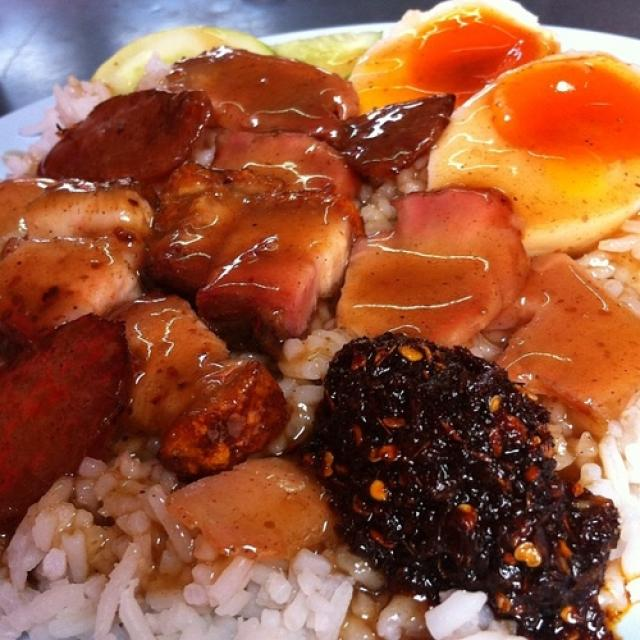猪肉菜式: (26, 28, 620, 604)
